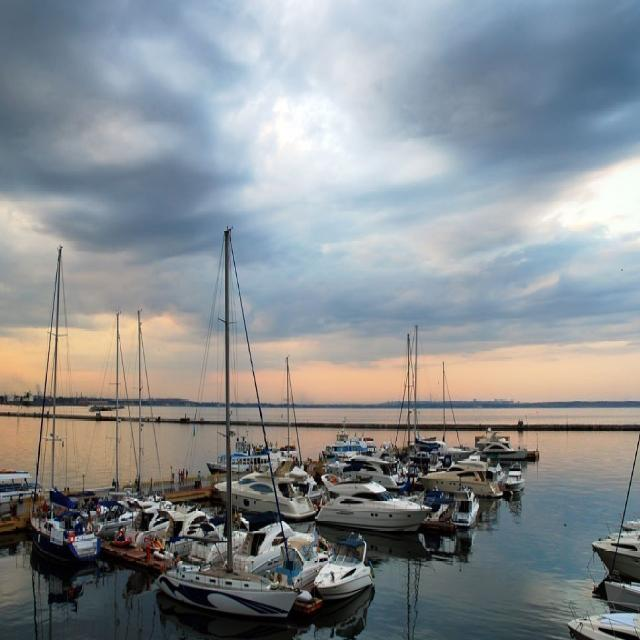passenger ship: (319, 472, 410, 530), (322, 531, 377, 621), (425, 456, 505, 501), (469, 426, 524, 456)
